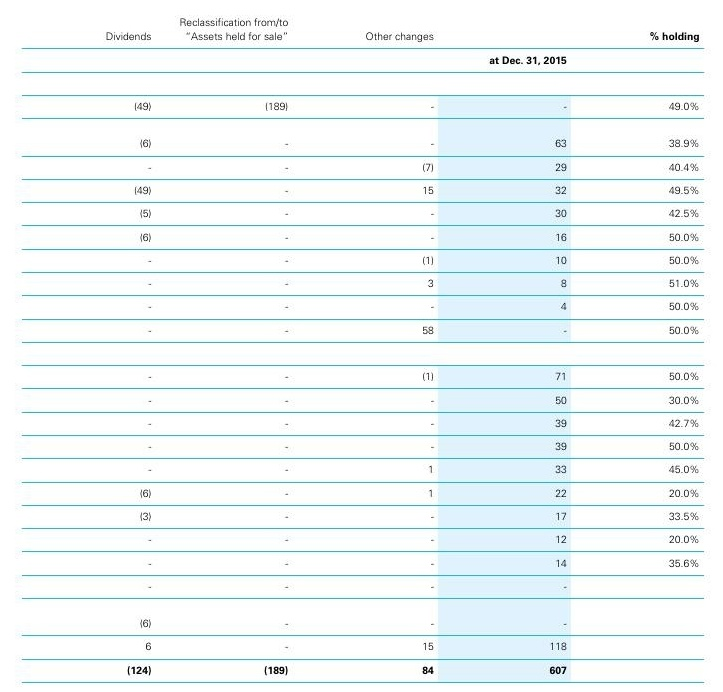table: (0, 0, 723, 692)
